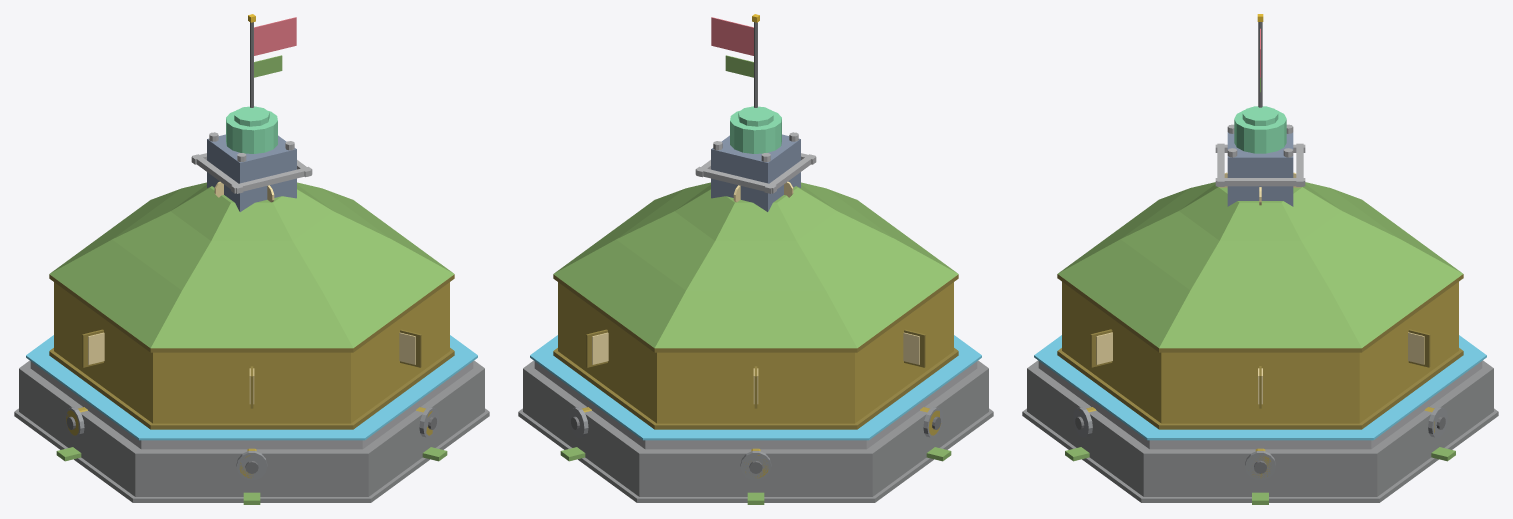
The model's file is main_building_s3_100.glb.
The picture shows the model from 3 angles, left to right: view 1: azimuth 30°, elevation 25°; view 2: azimuth 150°, elevation 25°; view 3: azimuth 270°, elevation 25°; orthographic projection.
Parts seen in each view (by area): view 1: MB_BalconyE; view 2: MB_BalconyE; view 3: MB_BalconyE.
Part boxes in pixels (left/top/right/bottom): MB_BalconyE: left=14, top=14, right=489, bottom=504; MB_BalconyE: left=518, top=14, right=993, bottom=504; MB_BalconyE: left=1022, top=14, right=1498, bottom=504.
Size of the model in its own units: 3.69 by 3.7 by 3.98.
